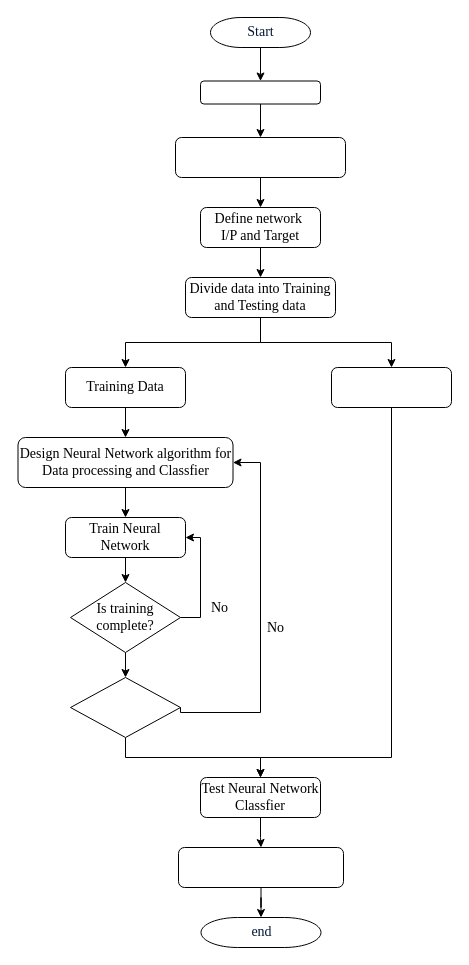
The diagram is 469 pixels wide and 965 high, and some of its shapes have lost their labels. Here are the shapes that lost their labels. From the top down, the centre of each, then its label:
(x=260, y=92): Get WSN Data
(x=260, y=157): Extract and Select Features of data for training
(x=391, y=387): Testing Data
(x=125, y=707): Is Algorithm Complete?
(x=261, y=867): Measure training and testing set accuracy
